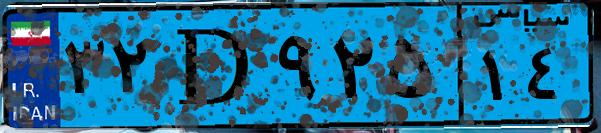1: (475, 38, 525, 113)
2: (330, 28, 385, 110), (110, 28, 158, 98)
3: (57, 26, 110, 100)
4: (525, 38, 570, 115)
5: (385, 28, 445, 110)
9: (270, 28, 330, 110)
D: (158, 12, 270, 120)
